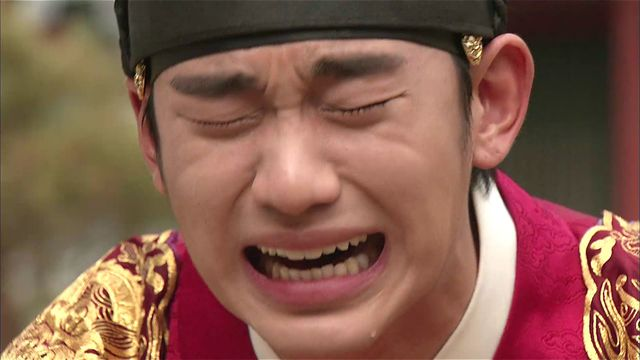sad: (150, 29, 439, 346)
